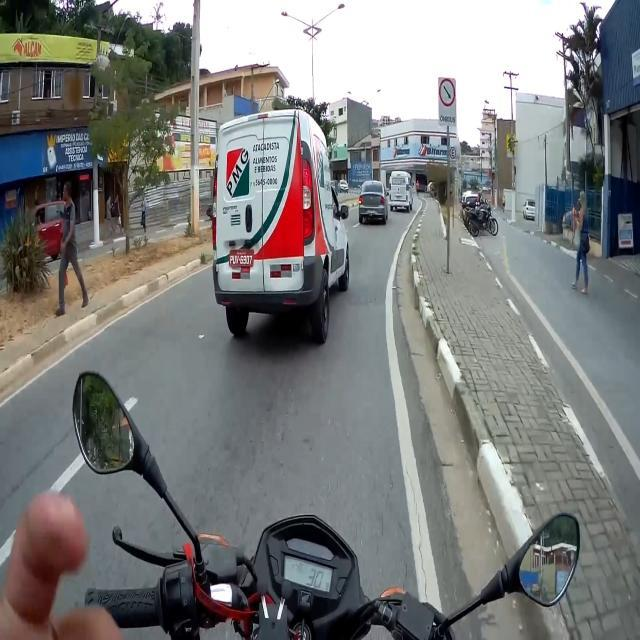Placa_mercosul_carro: (229, 250, 254, 267)
